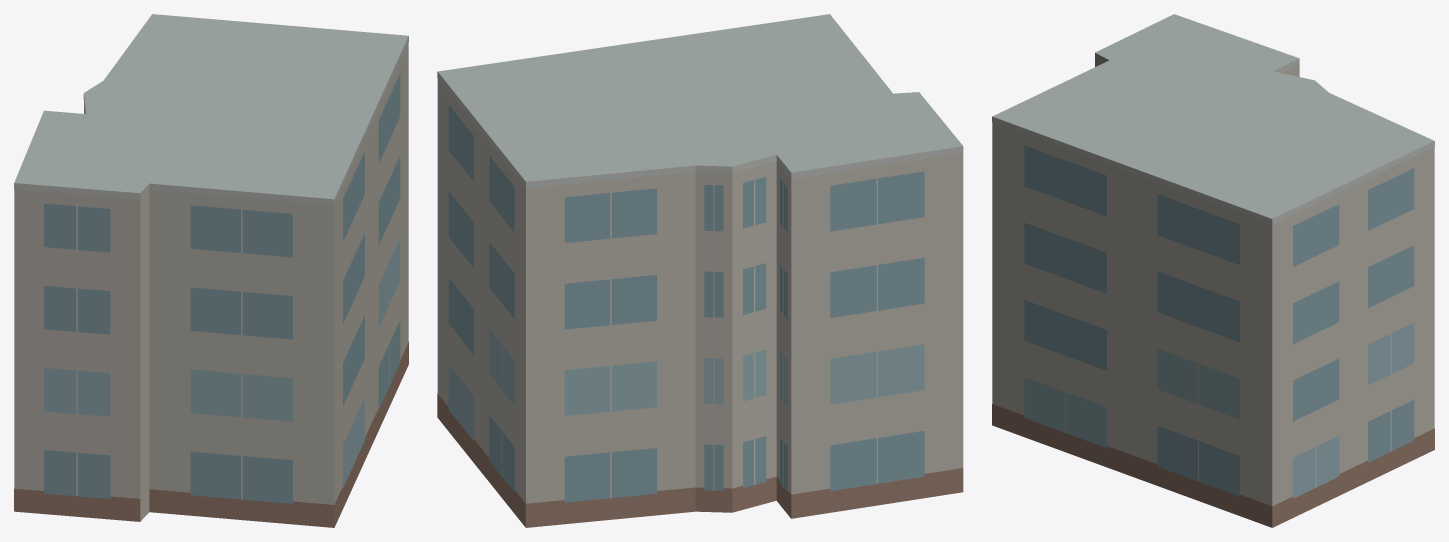
Rendered from survey-upis-32612442.glb.
3 views of the same model, side by side, from view 1: azimuth 30°, elevation 25°; view 2: azimuth 150°, elevation 25°; view 3: azimuth 270°, elevation 25° (orthographic). The views are drawn at different scales.
Visible parts, largest first — view 1: survey-upis-32612442.tmp; view 2: survey-upis-32612442.tmp; view 3: survey-upis-32612442.tmp.
Boxes of the visible parts, x1,y1,x2,y2 form: survey-upis-32612442.tmp: (14,14,408,527); survey-upis-32612442.tmp: (437,14,963,527); survey-upis-32612442.tmp: (992,14,1434,527).
Bounding box in the file's own units: 18.23 × 12.8 × 16.63.
